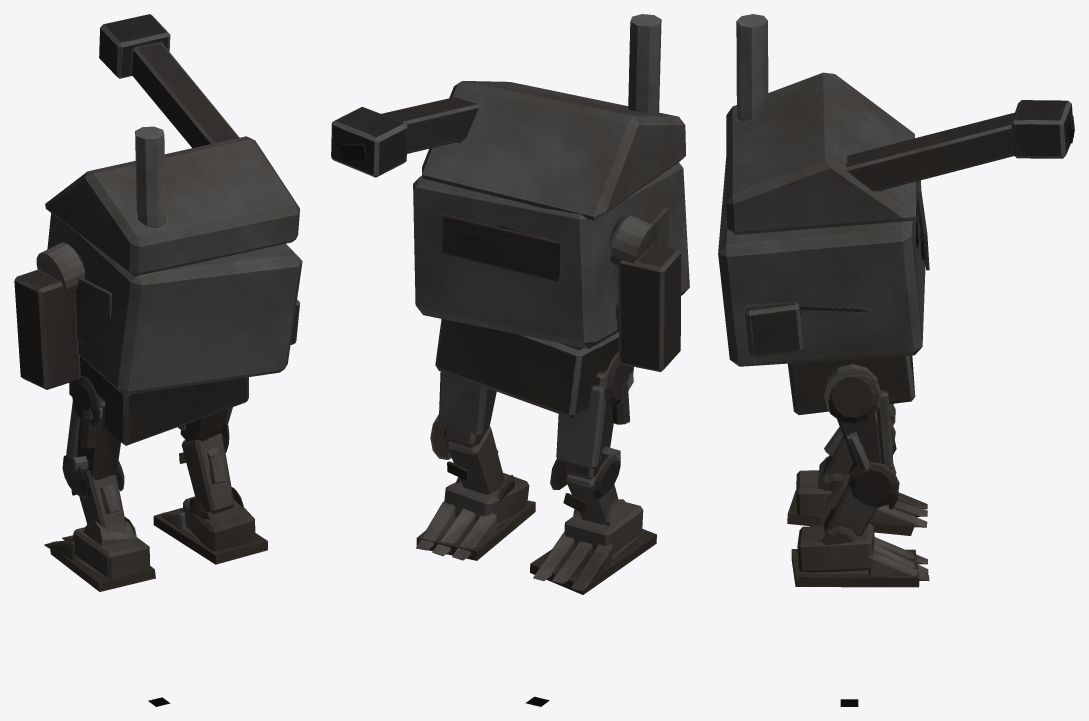
File: chs_tinker_wreck.fbx
3 renders of one model, left to right at view 1: azimuth 30°, elevation 25°; view 2: azimuth 150°, elevation 25°; view 3: azimuth 270°, elevation 25°, orthographic. The views are drawn at different scales.
Visible parts, largest first — view 1: base_bar, nano_bar, thighL_bar, footR_bar, footL_bar, shinR_bar, shinL_bar, thighR_bar; view 2: base_bar, nano_bar, thighL_bar, footL_bar, footR_bar, thighR_bar, shinR_bar, shinL_bar; view 3: base_bar, nano_bar, thighR_bar, footR_bar, footL_bar, shinR_bar, shinL_bar.
Part boxes in pixels (left/top/right/bottom): base_bar: left=14, top=126, right=302, bottom=445; nano_bar: left=99, top=14, right=239, bottom=147; thighL_bar: left=62, top=376, right=124, bottom=498; footR_bar: left=153, top=496, right=267, bottom=564; footL_bar: left=44, top=527, right=155, bottom=591; shinR_bar: left=179, top=433, right=243, bottom=519; shinL_bar: left=71, top=470, right=136, bottom=545; thighR_bar: left=178, top=407, right=232, bottom=452; base_bar: left=413, top=14, right=689, bottom=417; nano_bar: left=331, top=97, right=478, bottom=177; thighL_bar: left=550, top=351, right=633, bottom=499; footL_bar: left=530, top=502, right=656, bottom=594; footR_bar: left=416, top=473, right=535, bottom=560; thighR_bar: left=430, top=371, right=496, bottom=459; shinR_bar: left=446, top=426, right=514, bottom=501; shinL_bar: left=563, top=461, right=629, bottom=526; base_bar: left=718, top=14, right=929, bottom=414; nano_bar: left=846, top=100, right=1074, bottom=191; thighR_bar: left=823, top=364, right=899, bottom=507; footR_bar: left=791, top=523, right=929, bottom=587; footL_bar: left=787, top=470, right=927, bottom=535; shinR_bar: left=820, top=463, right=898, bottom=545; shinL_bar: left=818, top=427, right=896, bottom=491.
Bounding box in the file's own units: 311 × 811 × 401.
2 materials, 2 textured.
